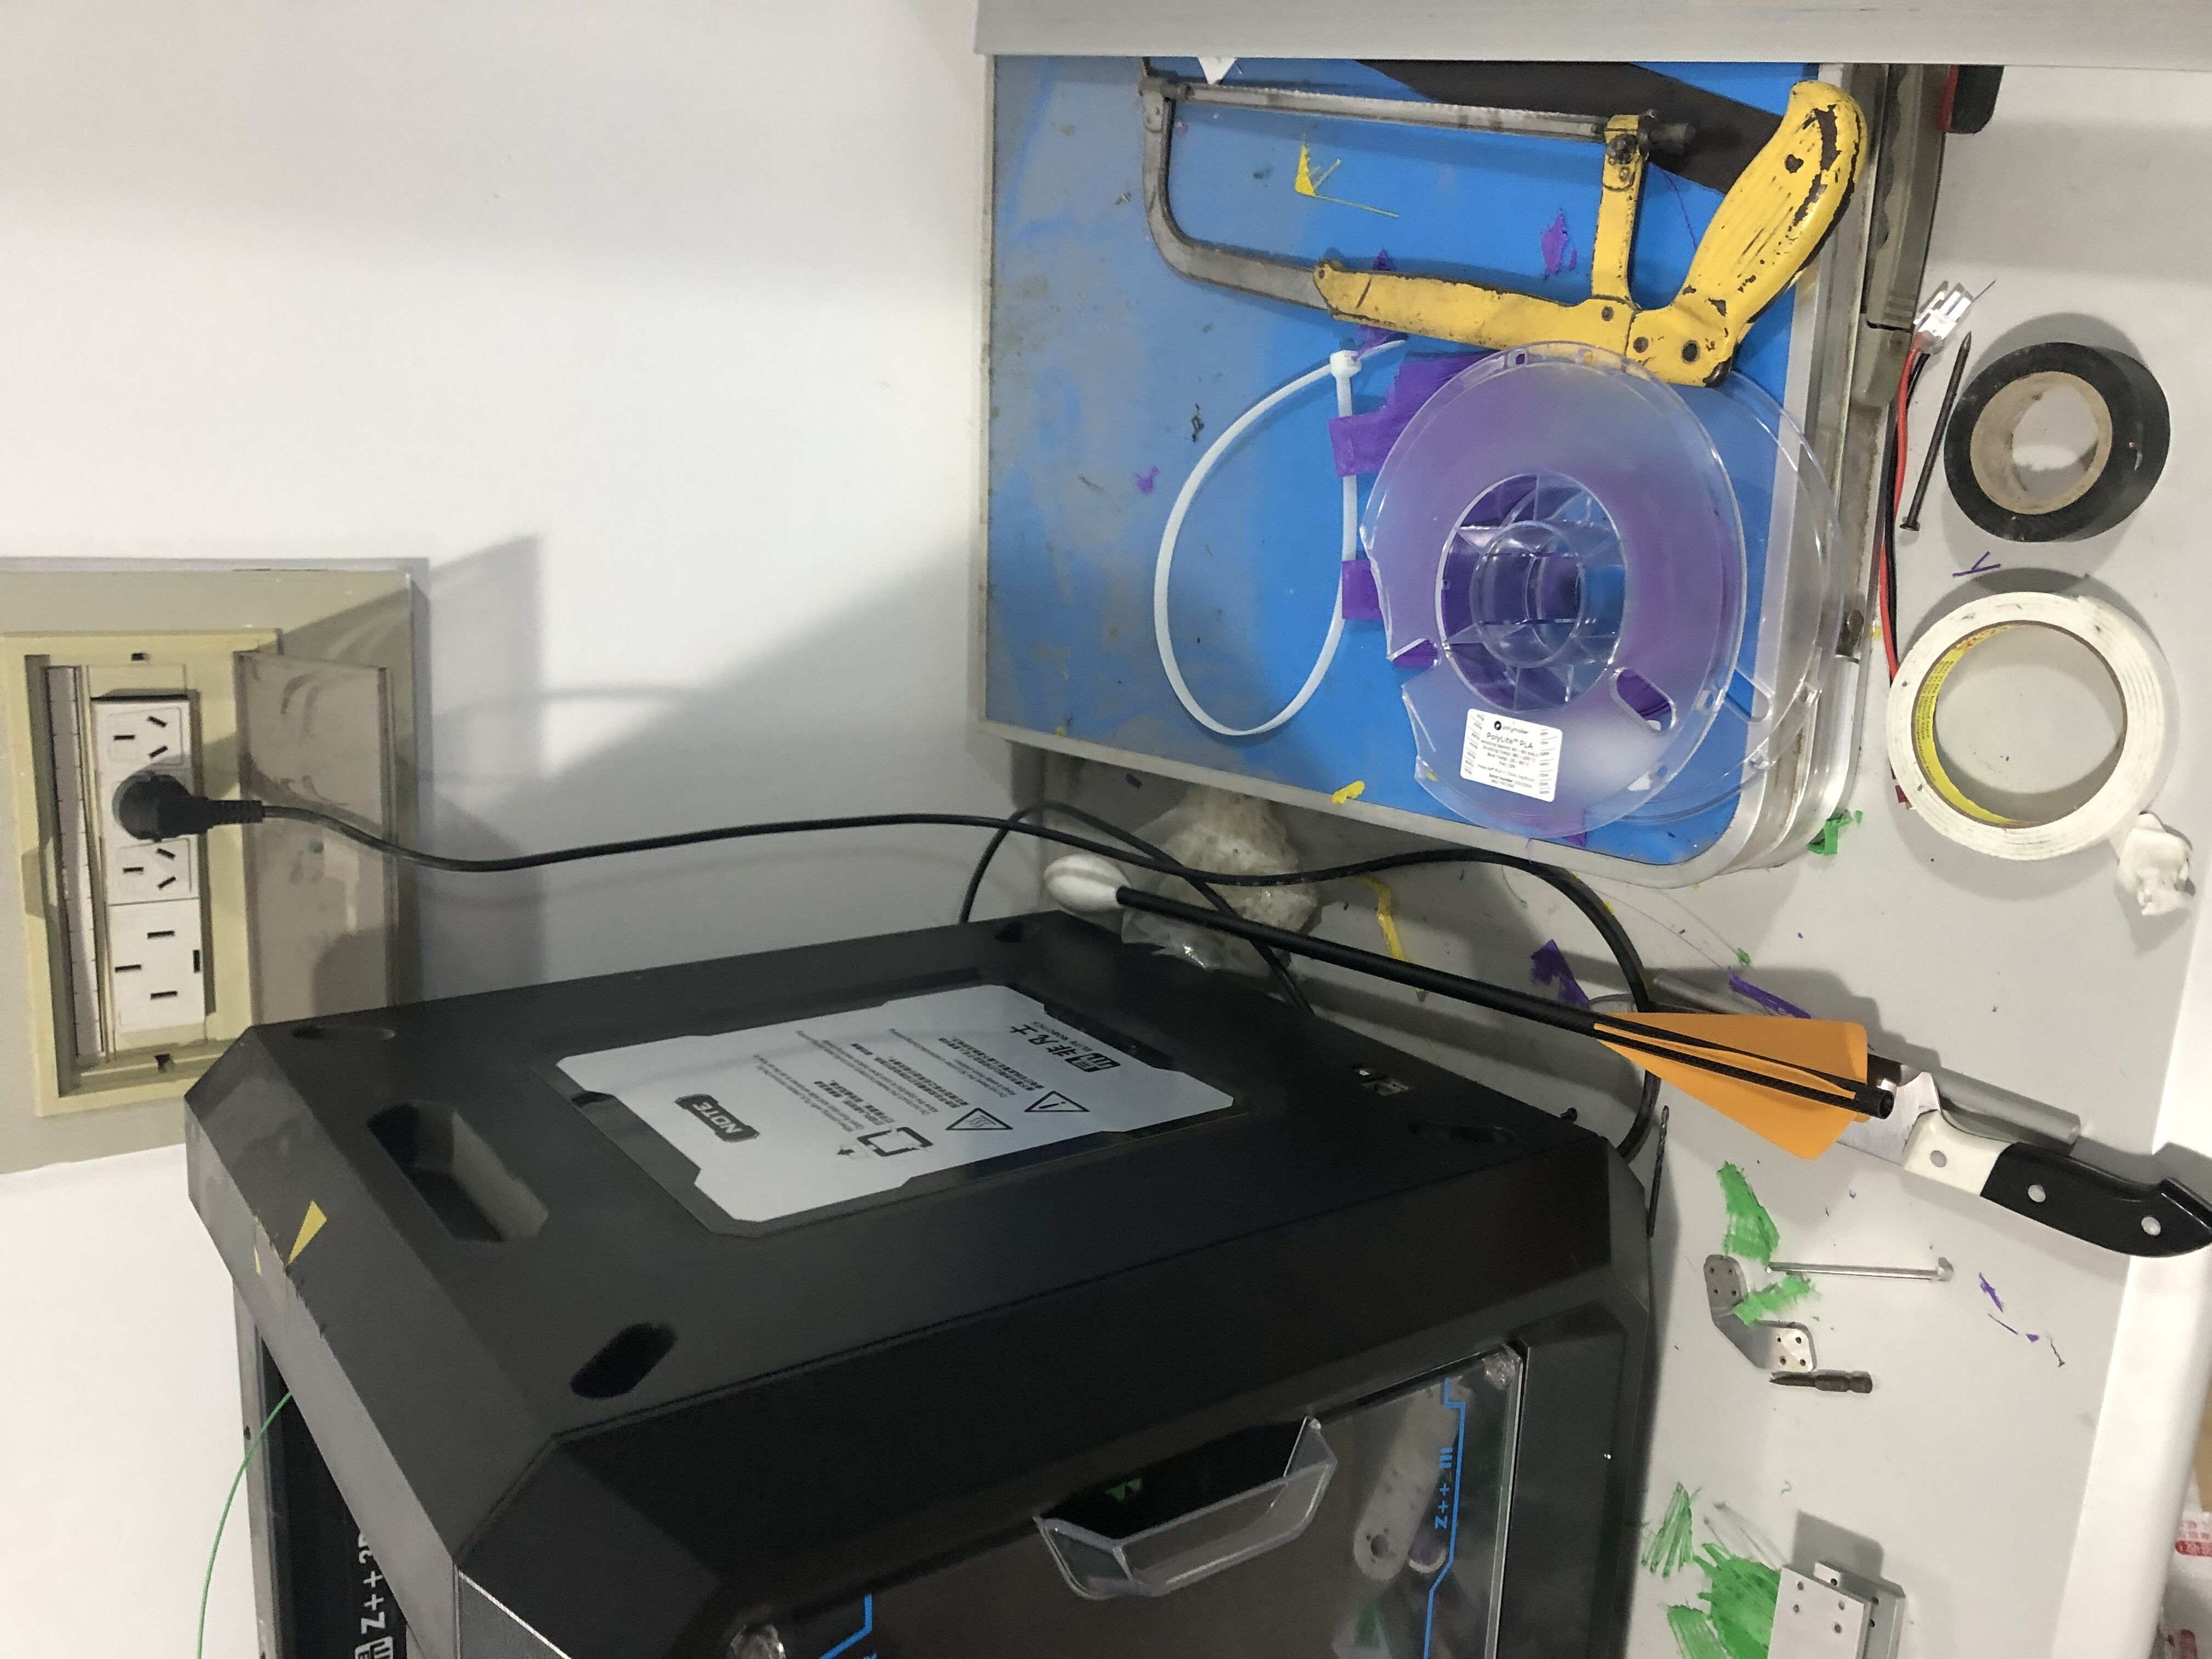arrow: (1035, 845, 1902, 1171)
arrowFront: (1038, 852, 1125, 908)
